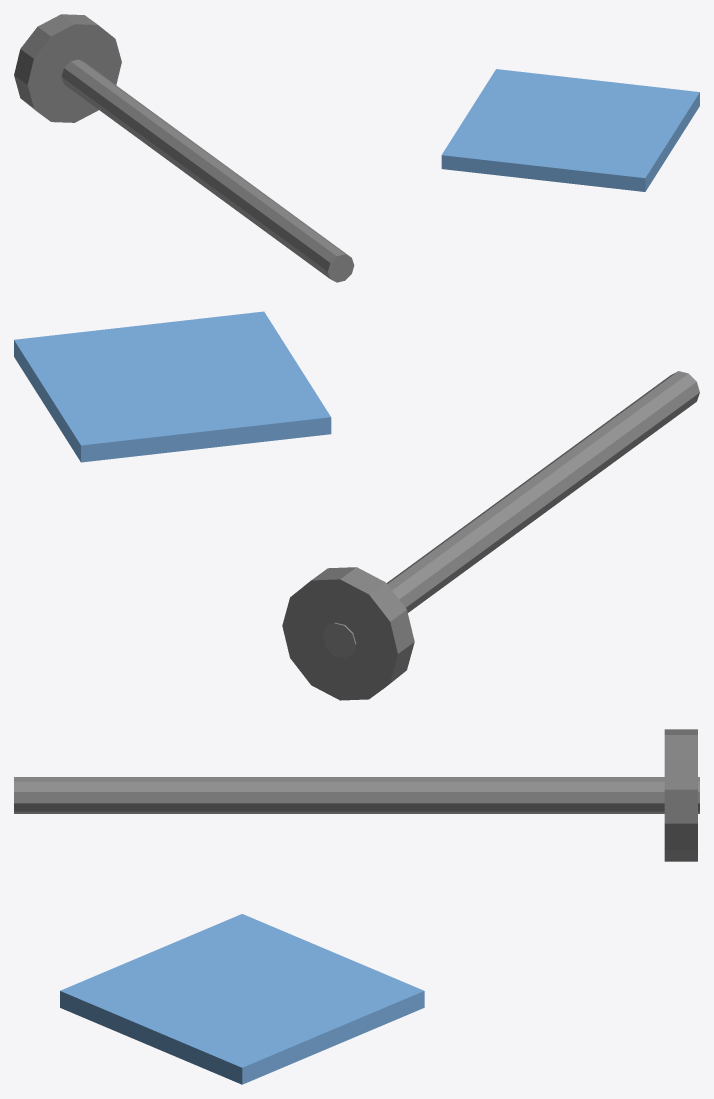
File: road_arrow_sign.glb
3 renders of one model, top to bottom at view 1: azimuth 30°, elevation 25°; view 2: azimuth 150°, elevation 25°; view 3: azimuth 270°, elevation 25°, orthographic. The views are drawn at different scales.
Visible parts, largest first — view 1: diamond_plate, sign_pole, sign_base; view 2: diamond_plate, sign_pole, sign_base; view 3: diamond_plate, sign_pole, sign_base.
Part boxes in pixels (bbox=[...]): diamond_plate: bbox=[441, 69, 699, 191]; sign_pole: bbox=[61, 59, 354, 282]; sign_base: bbox=[14, 14, 121, 122]; diamond_plate: bbox=[14, 311, 331, 462]; sign_pole: bbox=[323, 371, 699, 657]; sign_base: bbox=[282, 567, 414, 700]; diamond_plate: bbox=[60, 914, 424, 1084]; sign_pole: bbox=[14, 777, 699, 813]; sign_base: bbox=[664, 729, 697, 861].
Bounding box in the file's own units: 1.69 × 0.32 × 1.65.
